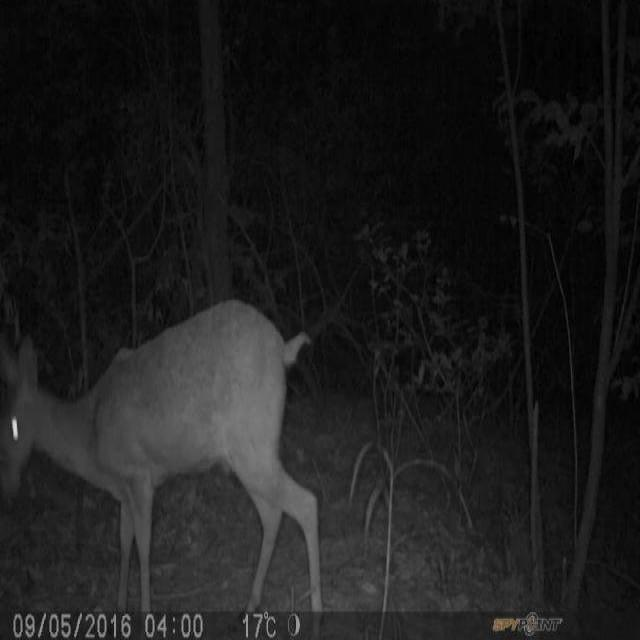deer: (0, 296, 325, 608)
